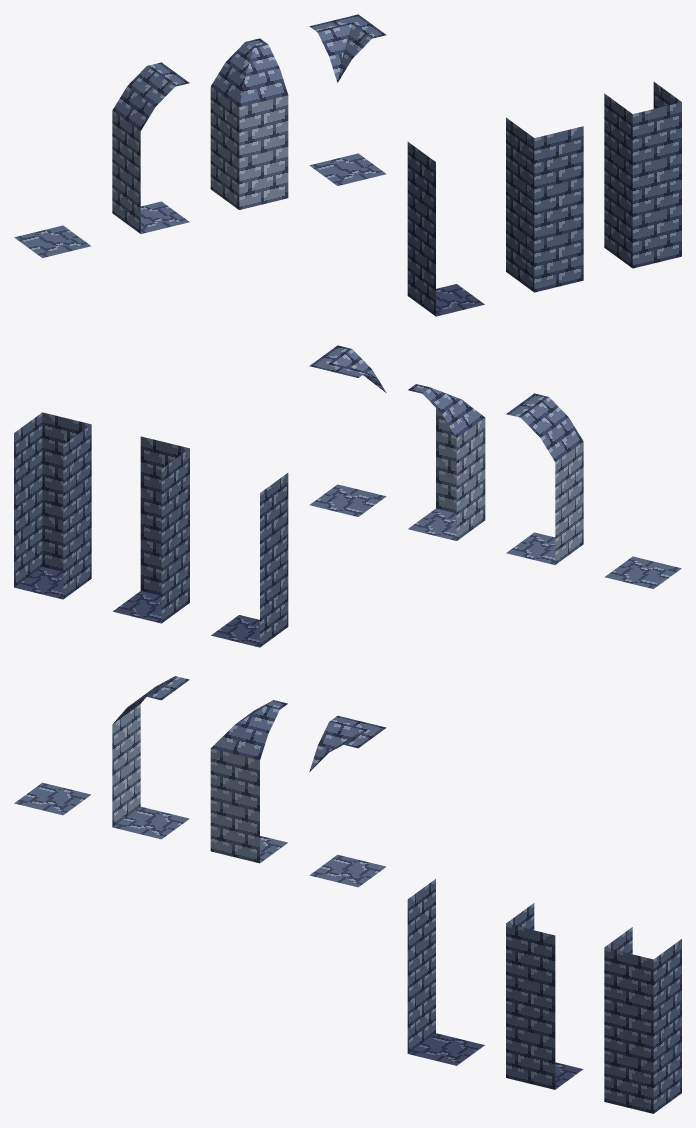
Rendered from walls-tiles.glb.
3 renders of one model, top to bottom at view 1: azimuth 30°, elevation 25°; view 2: azimuth 150°, elevation 25°; view 3: azimuth 330°, elevation 25°, orthographic.
Parts seen in each view (by area): view 1: Hole-UTurn-col, Hole-Corner-col, Wall-Corner-col, Wall-Side-col, Hole-Side-col, Wall-Outer-col, Ground-col; view 2: Hole-UTurn-col, Hole-Corner-col, Wall-Corner-col, Wall-Side-col, Hole-Side-col, Wall-Outer-col, Ground-col; view 3: Hole-UTurn-col, Hole-Corner-col, Wall-Corner-col, Hole-Side-col, Wall-Side-col, Wall-Outer-col, Ground-col.
Part boxes in pixels (x1=…): Hole-UTurn-col: x1=604, y1=82, x2=681, y2=268; Hole-Corner-col: x1=506, y1=117, x2=583, y2=292; Wall-Corner-col: x1=210, y1=38, x2=288, y2=209; Wall-Side-col: x1=112, y1=62, x2=189, y2=233; Hole-Side-col: x1=407, y1=142, x2=484, y2=316; Wall-Outer-col: x1=309, y1=14, x2=386, y2=185; Ground-col: x1=14, y1=225, x2=91, y2=257; Hole-UTurn-col: x1=14, y1=412, x2=91, y2=599; Hole-Corner-col: x1=113, y1=436, x2=189, y2=623; Wall-Corner-col: x1=408, y1=384, x2=485, y2=540; Wall-Side-col: x1=506, y1=393, x2=583, y2=564; Hole-Side-col: x1=211, y1=473, x2=288, y2=647; Wall-Outer-col: x1=309, y1=345, x2=386, y2=516; Ground-col: x1=604, y1=556, x2=681, y2=588; Hole-UTurn-col: x1=604, y1=927, x2=681, y2=1113; Hole-Corner-col: x1=506, y1=903, x2=583, y2=1089; Wall-Corner-col: x1=210, y1=700, x2=287, y2=863; Hole-Side-col: x1=407, y1=879, x2=484, y2=1065; Wall-Side-col: x1=112, y1=676, x2=189, y2=839; Wall-Outer-col: x1=309, y1=715, x2=386, y2=887; Ground-col: x1=14, y1=782, x2=90, y2=815.
Bounding box in the file's own units: 13 × 5.7 × 1.
Materials: 1 (1 with a texture image).
